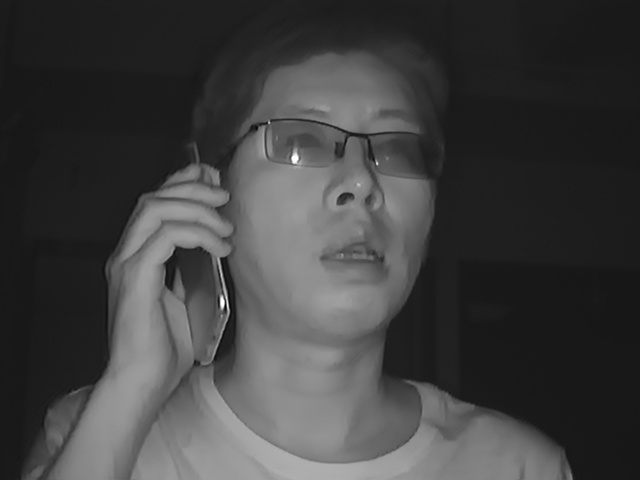hand: (105, 168, 234, 369)
